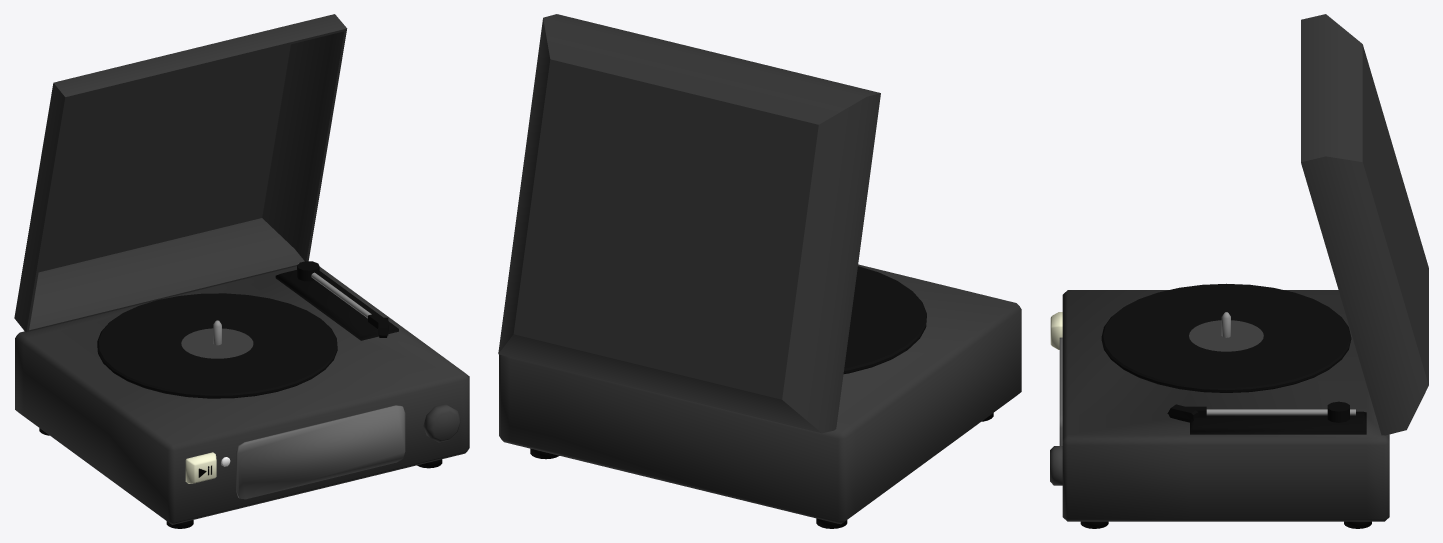
Rendered from Record Player.FBX.
The picture shows the model from 3 angles, left to right: view 1: azimuth 30°, elevation 25°; view 2: azimuth 150°, elevation 25°; view 3: azimuth 270°, elevation 25°; orthographic projection. The views are drawn at different scales.
Parts seen in each view (by area): view 1: Cover, Record Player, Record, Arm, Button; view 2: Cover, Record Player, Record; view 3: Record Player, Cover, Record, Arm.
Part boxes in pixels (bbox=[...]): Cover: bbox=[14, 14, 347, 332]; Record Player: bbox=[15, 266, 469, 528]; Record: bbox=[97, 293, 337, 398]; Arm: bbox=[297, 261, 388, 337]; Button: bbox=[185, 452, 216, 483]; Cover: bbox=[498, 14, 880, 433]; Record Player: bbox=[499, 264, 1021, 528]; Record: bbox=[843, 266, 926, 373]; Record Player: bbox=[1050, 290, 1389, 528]; Cover: bbox=[1301, 14, 1428, 435]; Record: bbox=[1101, 283, 1351, 392]; Arm: bbox=[1167, 401, 1355, 422].
Bounding box in the file's own units: 55.18 × 63.33 × 57.87.
